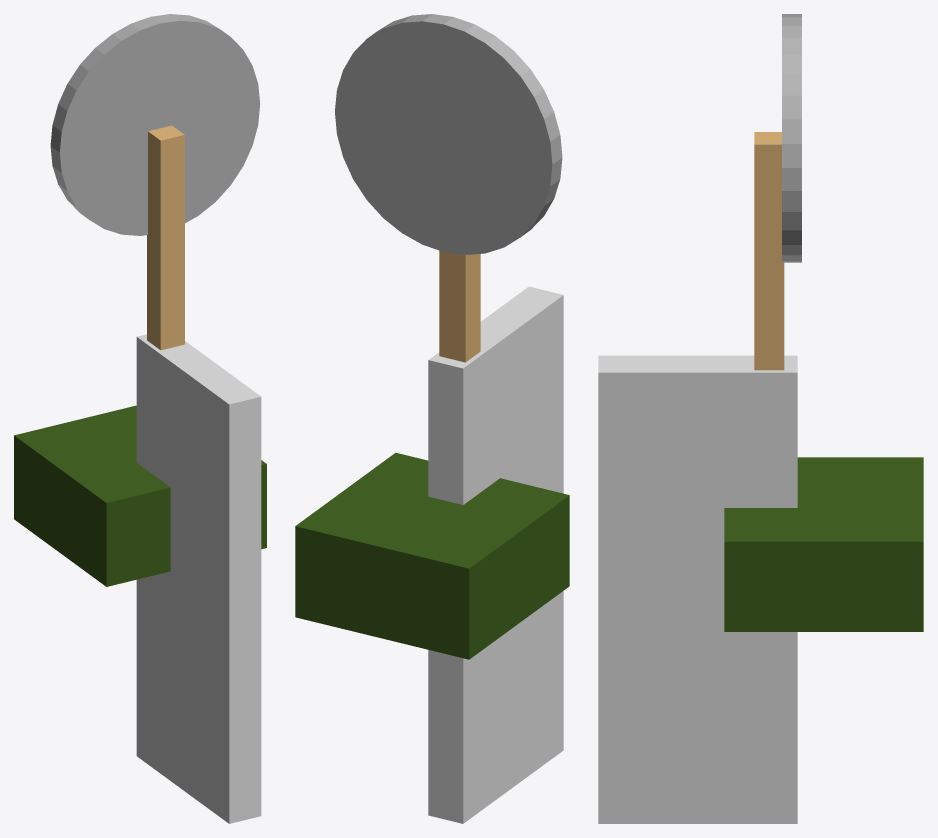
3 views of the same model, side by side, from view 1: azimuth 30°, elevation 25°; view 2: azimuth 150°, elevation 25°; view 3: azimuth 270°, elevation 25° (orthographic). The views are drawn at different scales.
Visible parts, largest first — view 1: Cube.001, Cylinder, Cube.002, Cube; view 2: Cube.001, Cylinder, Cube.002, Cube; view 3: Cube.001, Cube.002, Cube, Cylinder.
Part boxes in pixels (x1=…): Cube.001: x1=136, y1=334, x2=261, y2=823; Cylinder: x1=50, y1=14, x2=260, y2=235; Cube.002: x1=14, y1=405, x2=266, y2=586; Cube: x1=147, y1=125, x2=184, y2=350; Cube.001: x1=428, y1=286, x2=563, y2=823; Cylinder: x1=335, y1=14, x2=562, y2=254; Cube.002: x1=295, y1=452, x2=569, y2=659; Cube: x1=439, y1=250, x2=480, y2=362; Cube.001: x1=598, y1=355, x2=797, y2=823; Cube.002: x1=724, y1=457, x2=923, y2=631; Cube: x1=754, y1=132, x2=784, y2=370; Cylinder: x1=782, y1=14, x2=801, y2=262.
Bounding box in the file's own units: 0.5 × 0.6529 × 1.75.
